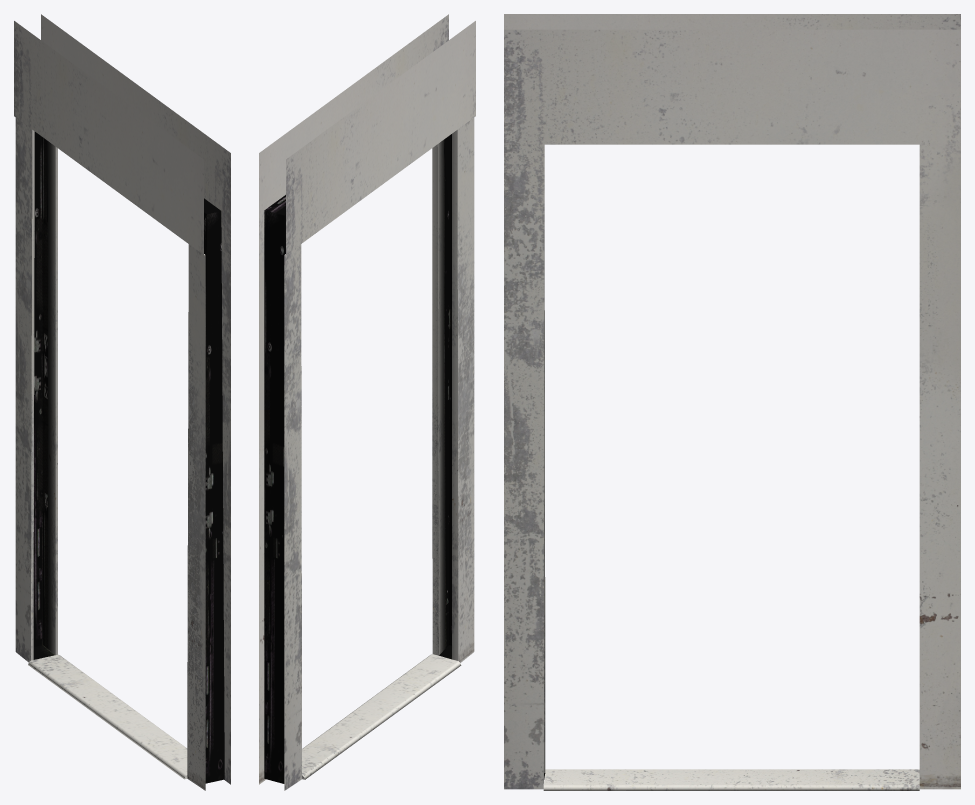
Rendered from Lift_Door_Post.fbx.
3 views of the same model, side by side, from view 1: azimuth 30°, elevation 25°; view 2: azimuth 150°, elevation 25°; view 3: azimuth 270°, elevation 25° (orthographic). The views are drawn at different scales.
Visible parts, largest first — view 1: Lift_Door_Post; view 2: Lift_Door_Post; view 3: Lift_Door_Post.
Boxes of the visible parts, x1,y1,x2,y2 form: Lift_Door_Post: (14, 14, 230, 790); Lift_Door_Post: (259, 14, 475, 790); Lift_Door_Post: (504, 14, 960, 790).
Size of the model in its own units: 0.1775 by 3.3 by 1.8.
